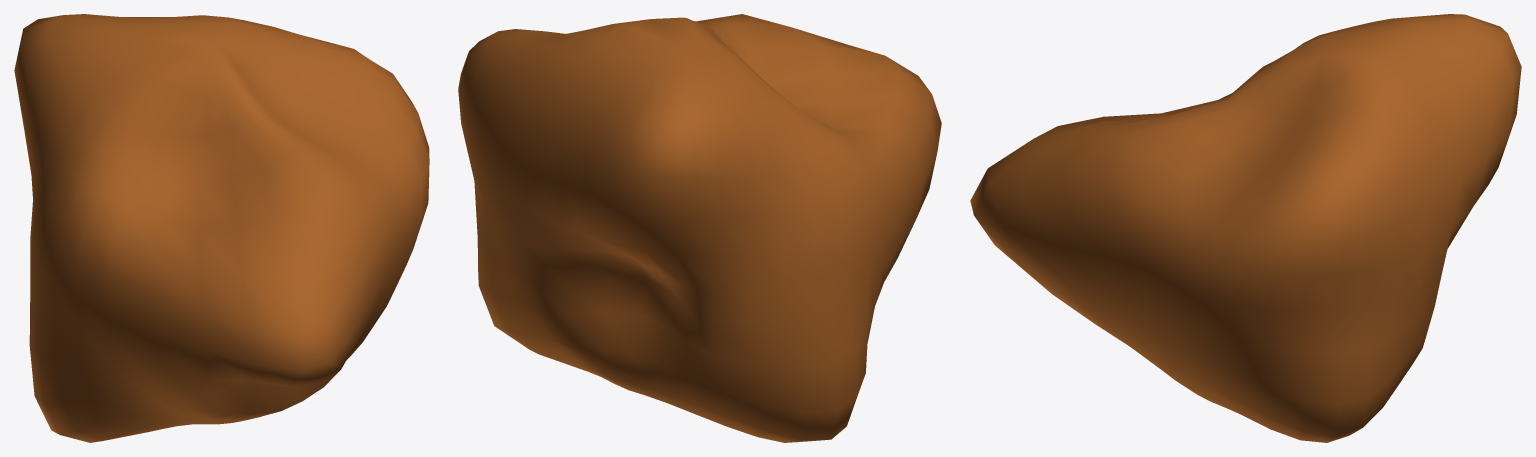
File: Asteroid1.fbx
3 views of the same model, side by side, from view 1: azimuth 30°, elevation 25°; view 2: azimuth 150°, elevation 25°; view 3: azimuth 270°, elevation 25° (orthographic). The views are drawn at different scales.
Parts seen in each view (by area): view 1: Sphere; view 2: Sphere; view 3: Sphere.
Part boxes in pixels (x1,y1,x2,y2): Sphere: [14, 14, 429, 442]; Sphere: [458, 14, 941, 442]; Sphere: [970, 14, 1521, 442].
Bounding box in the file's own units: 2.34 × 2.24 × 2.97.
